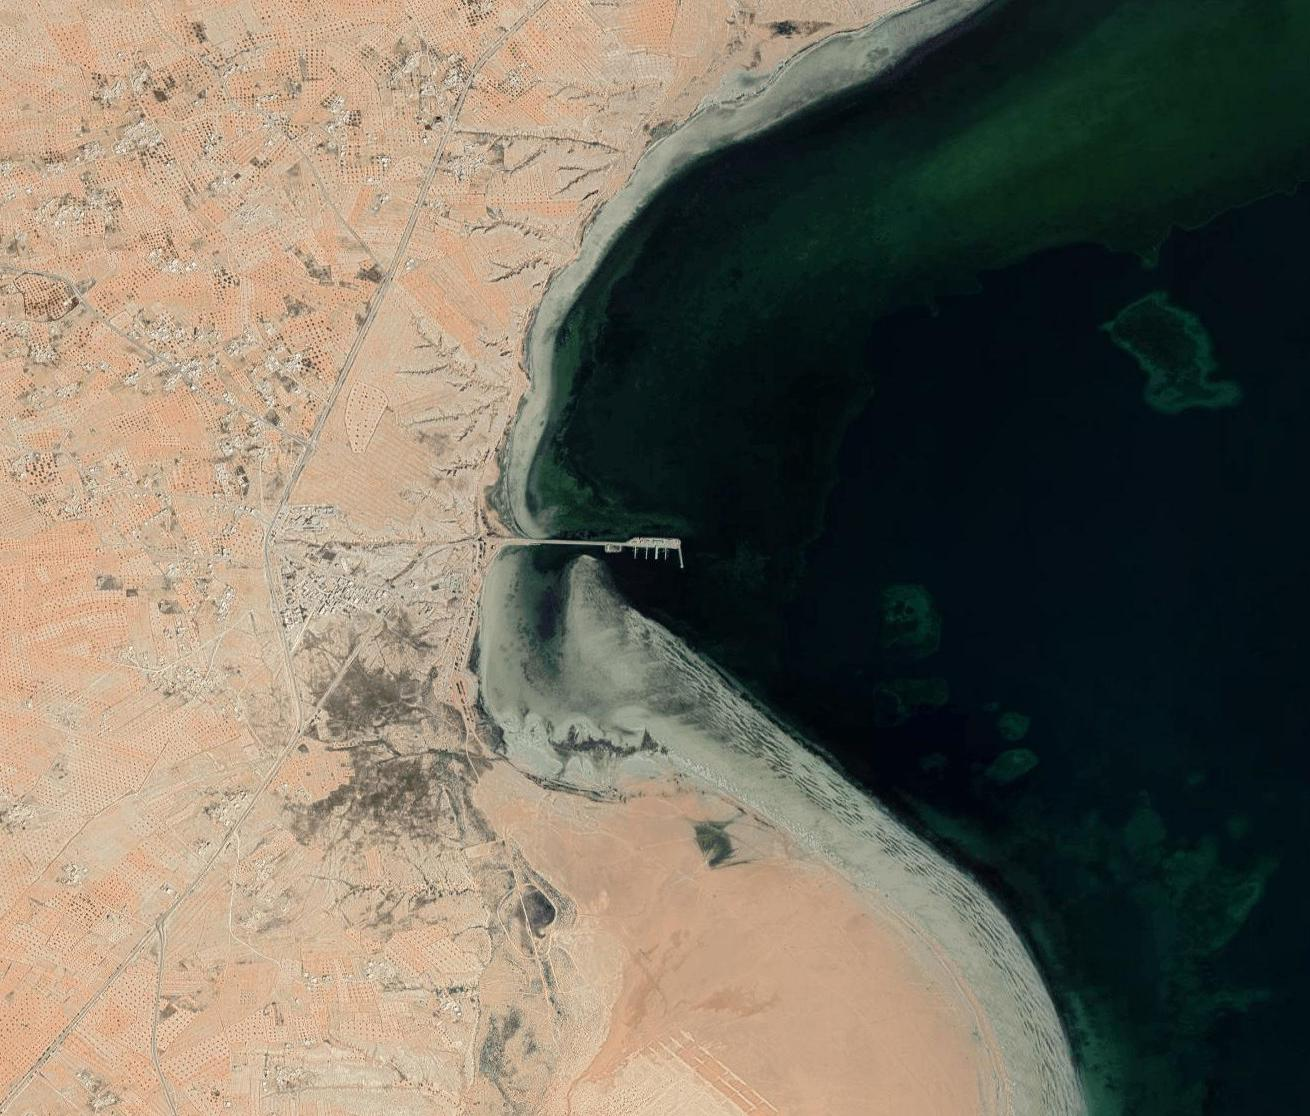harbor: (609, 521, 689, 573)
motorway: (4, 975, 118, 1112), (141, 981, 184, 1116), (112, 905, 179, 980), (314, 338, 362, 431), (272, 426, 318, 520), (177, 833, 234, 907), (479, 1, 543, 63), (404, 146, 445, 241), (363, 242, 404, 338), (439, 63, 481, 146), (235, 762, 283, 833), (272, 614, 300, 692), (259, 518, 281, 614), (281, 691, 308, 759)
